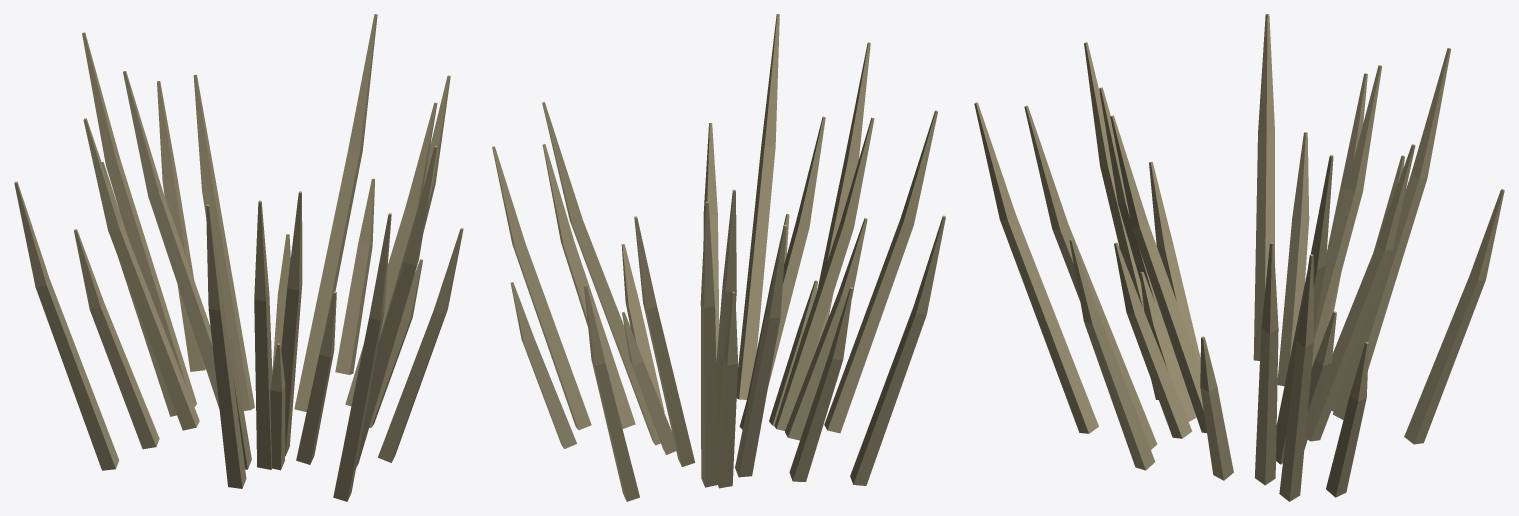
File: PLANT_03_GrassDry.glb
The picture shows the model from 3 angles, left to right: view 1: azimuth 30°, elevation 25°; view 2: azimuth 150°, elevation 25°; view 3: azimuth 270°, elevation 25°; orthographic projection. The views are drawn at different scales.
Parts seen in each view (by area): view 1: PLANT_03_GrassDry; view 2: PLANT_03_GrassDry; view 3: PLANT_03_GrassDry.
Part boxes in pixels (box(x1,y1,x2,y2)): PLANT_03_GrassDry: box(14, 14, 463, 501); PLANT_03_GrassDry: box(492, 14, 945, 501); PLANT_03_GrassDry: box(974, 14, 1504, 501).
Bounding box in the file's own units: 1.1 × 0.8286 × 1.12.
